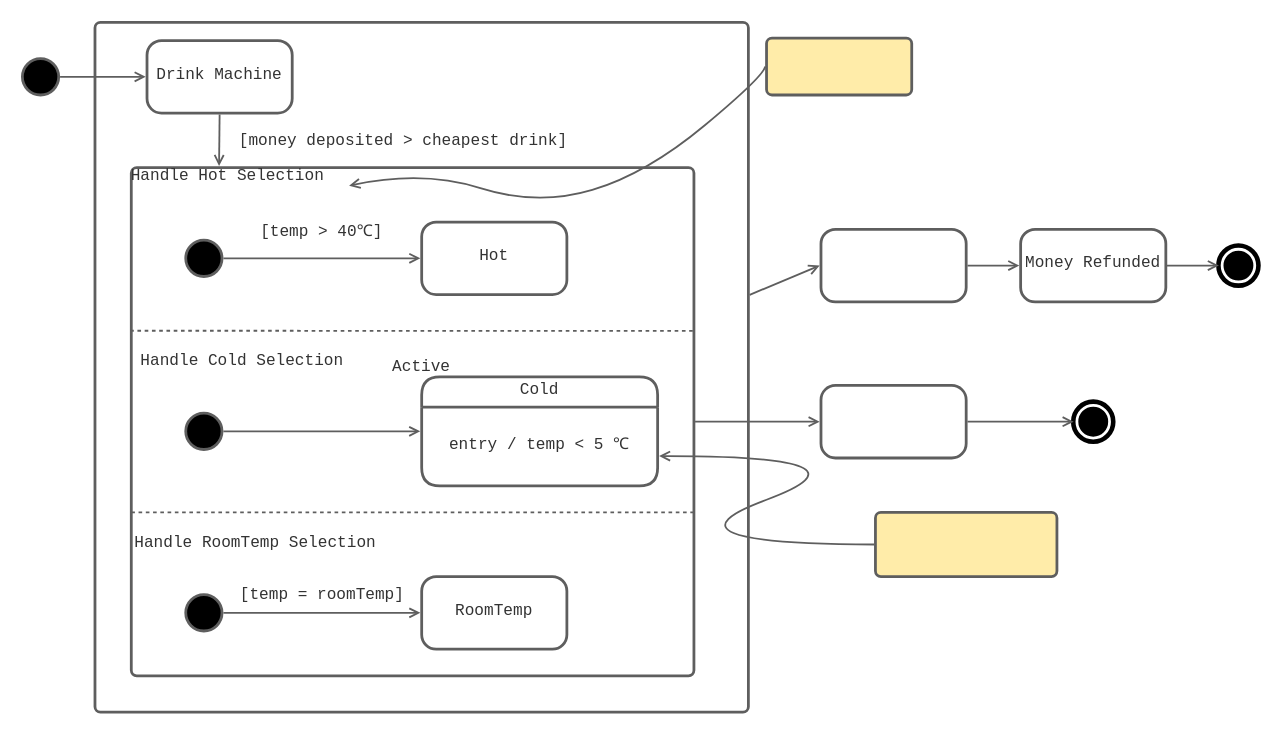
This 1279x734 diagram has some shape labels left out. The centre of each missing label's shape, as x and y in pixels:
Cancel: the point at 893,265
Dispense Drink: the point at 893,421
Guard placement?: the point at 965,543
Region label?: the point at 839,66
